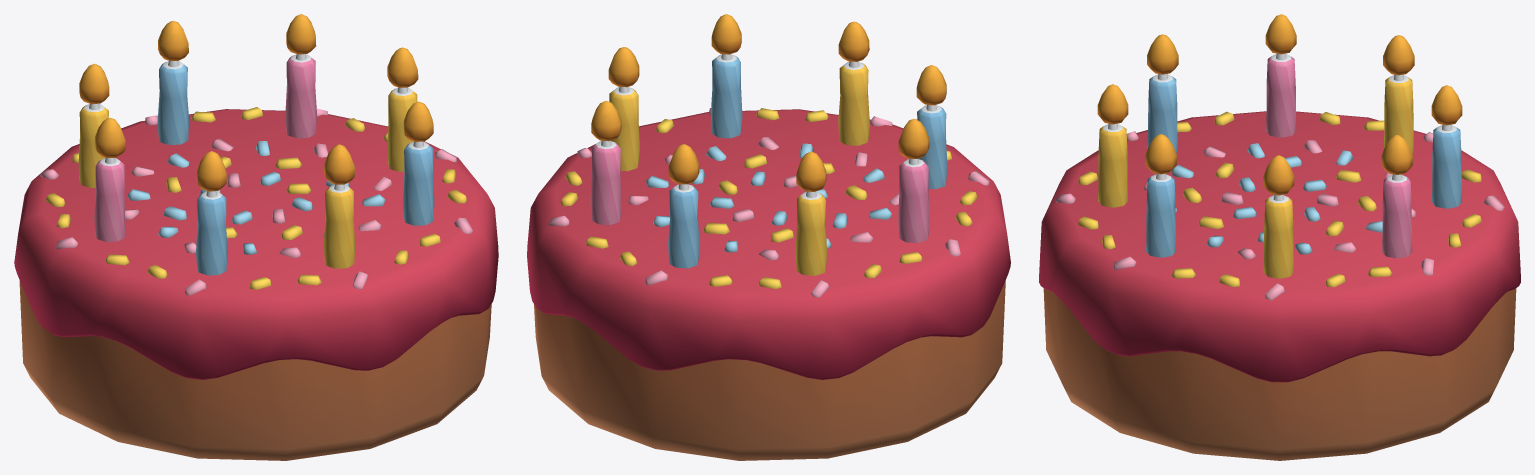
The picture shows the model from 3 angles, left to right: view 1: azimuth 30°, elevation 25°; view 2: azimuth 150°, elevation 25°; view 3: azimuth 270°, elevation 25°; orthographic projection.
Visible parts, largest first — view 1: cake_birthday, cake_birthday_candle_fire; view 2: cake_birthday, cake_birthday_candle_fire; view 3: cake_birthday, cake_birthday_candle_fire.
Part boxes in pixels (x1,y1,x2,y2): cake_birthday: [14, 54, 498, 460]; cake_birthday_candle_fire: [79, 14, 433, 191]; cake_birthday: [527, 54, 1010, 460]; cake_birthday_candle_fire: [591, 14, 946, 191]; cake_birthday: [1039, 53, 1520, 460]; cake_birthday_candle_fire: [1097, 14, 1462, 195].
Size of the model in its own units: 122 by 80.21 by 122.
1 material, 1 textured.
